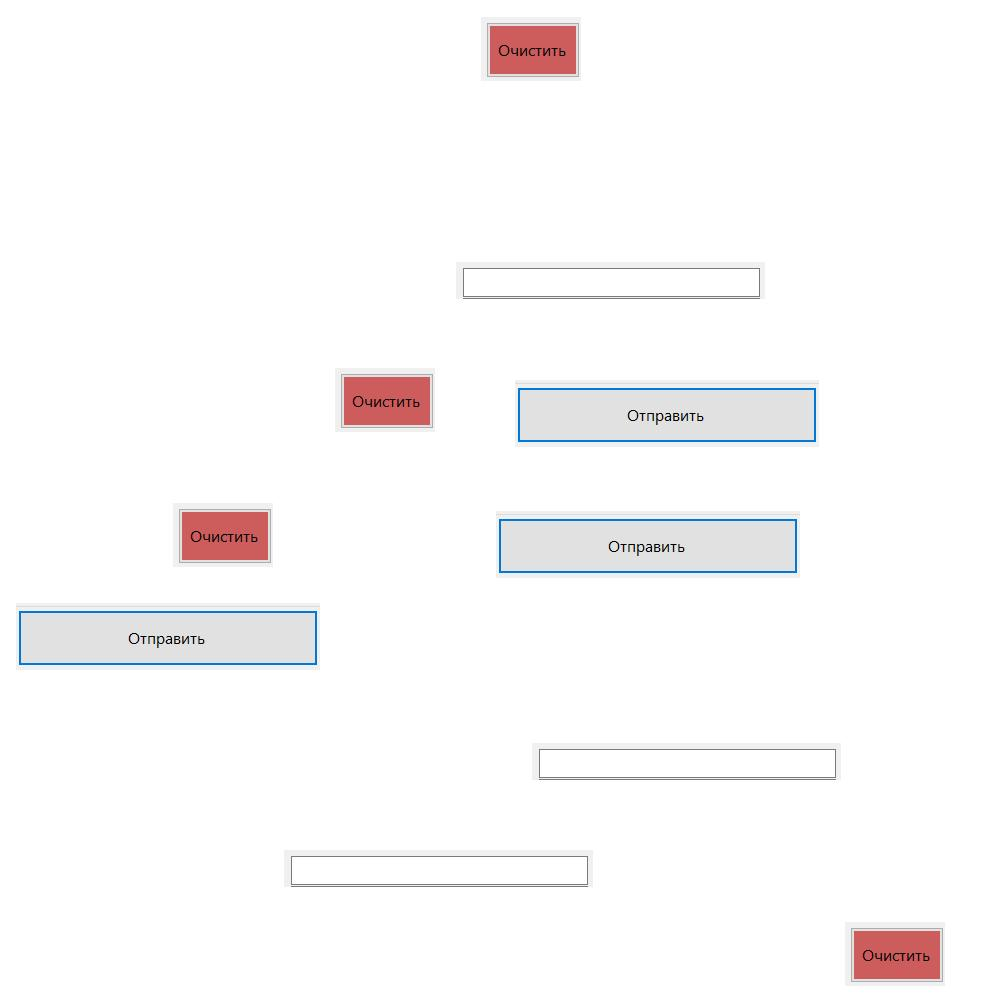Button: (16, 603, 320, 670), (496, 511, 800, 578), (515, 380, 819, 447), (173, 503, 273, 567), (845, 922, 945, 986), (481, 17, 581, 81), (335, 368, 435, 432)
EditText-: (284, 850, 593, 887), (532, 743, 841, 780), (456, 262, 765, 299)
